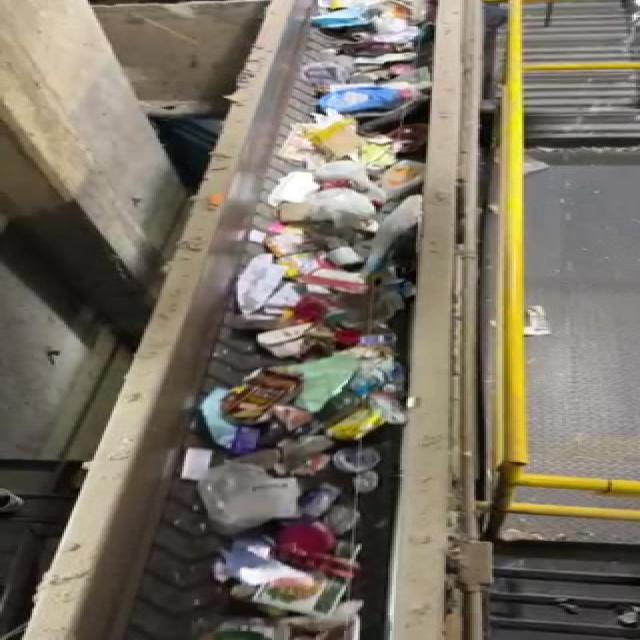paper: (223, 558, 356, 614), (132, 435, 219, 487)
pp: (330, 438, 402, 500)
ps: (190, 458, 295, 533)
